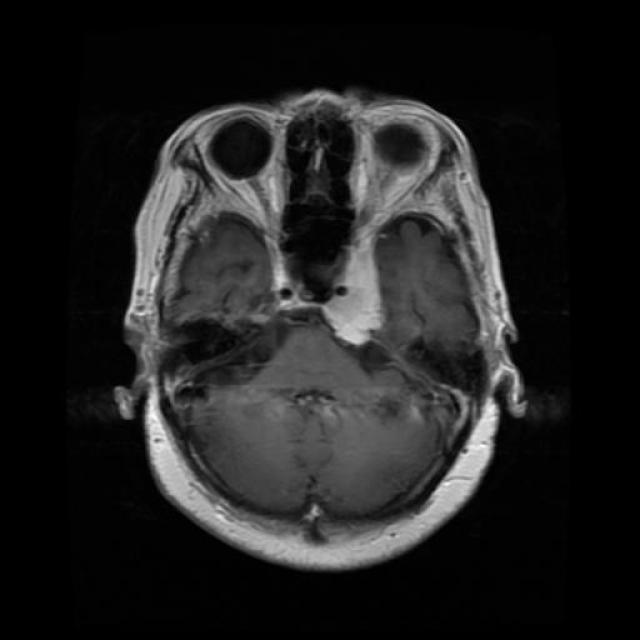Tumor: (328, 252, 388, 350)
